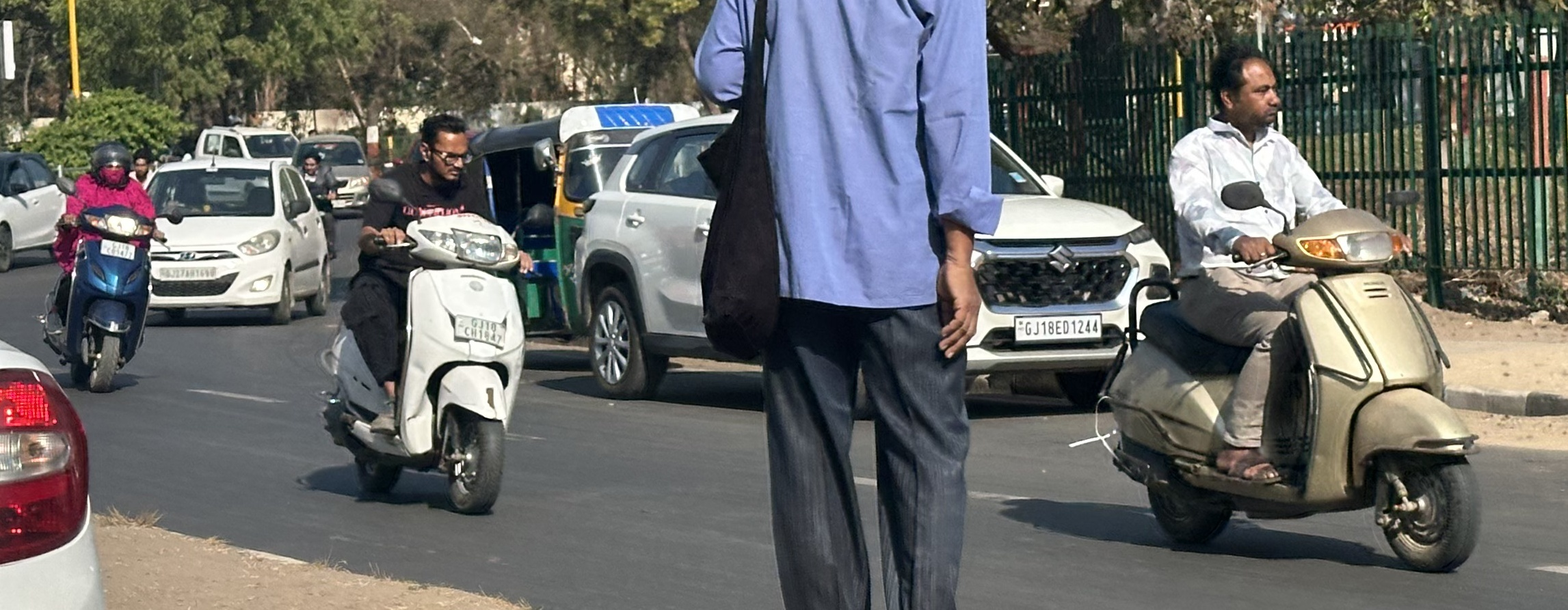BikeWithRider: (1079, 38, 1495, 579), (306, 104, 548, 521), (29, 134, 176, 398)
Helmet: (83, 137, 137, 189)
NoHelmet: (1197, 42, 1297, 136), (408, 108, 483, 187)
